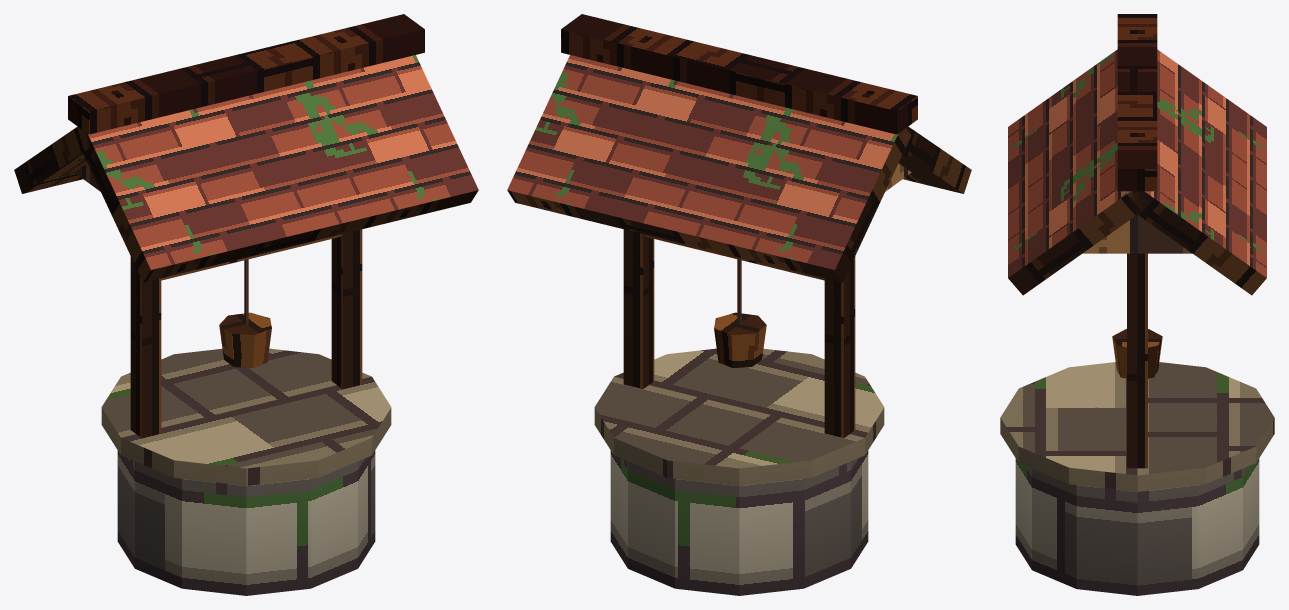
The model's file is well.glb.
The picture shows the model from 3 angles, left to right: view 1: azimuth 30°, elevation 25°; view 2: azimuth 150°, elevation 25°; view 3: azimuth 270°, elevation 25°; orthographic projection. The views are drawn at different scales.
Parts seen in each view (by area): view 1: well; view 2: well; view 3: well.
Part boxes in pixels (bbox=[...]): well: bbox=[14, 14, 478, 595]; well: bbox=[507, 14, 971, 595]; well: bbox=[1000, 14, 1274, 595].
Bounding box in the file's own units: 2.41 × 3.28 × 1.8.
Materials: 4 (3 with a texture image).
